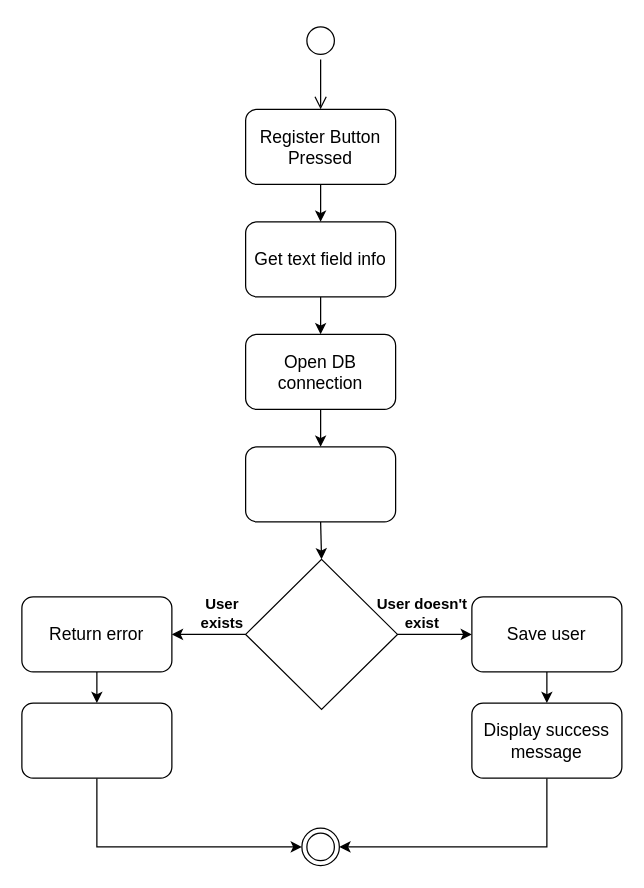
The diagram is 644 pixels wide and 888 high, and some of its shapes have lost their labels. Each missing label, with the centre of its shape:
"Check if user exists" goes at point (321, 633).
"Display error message" goes at point (96, 740).
"Query DB for all users" goes at point (320, 484).
